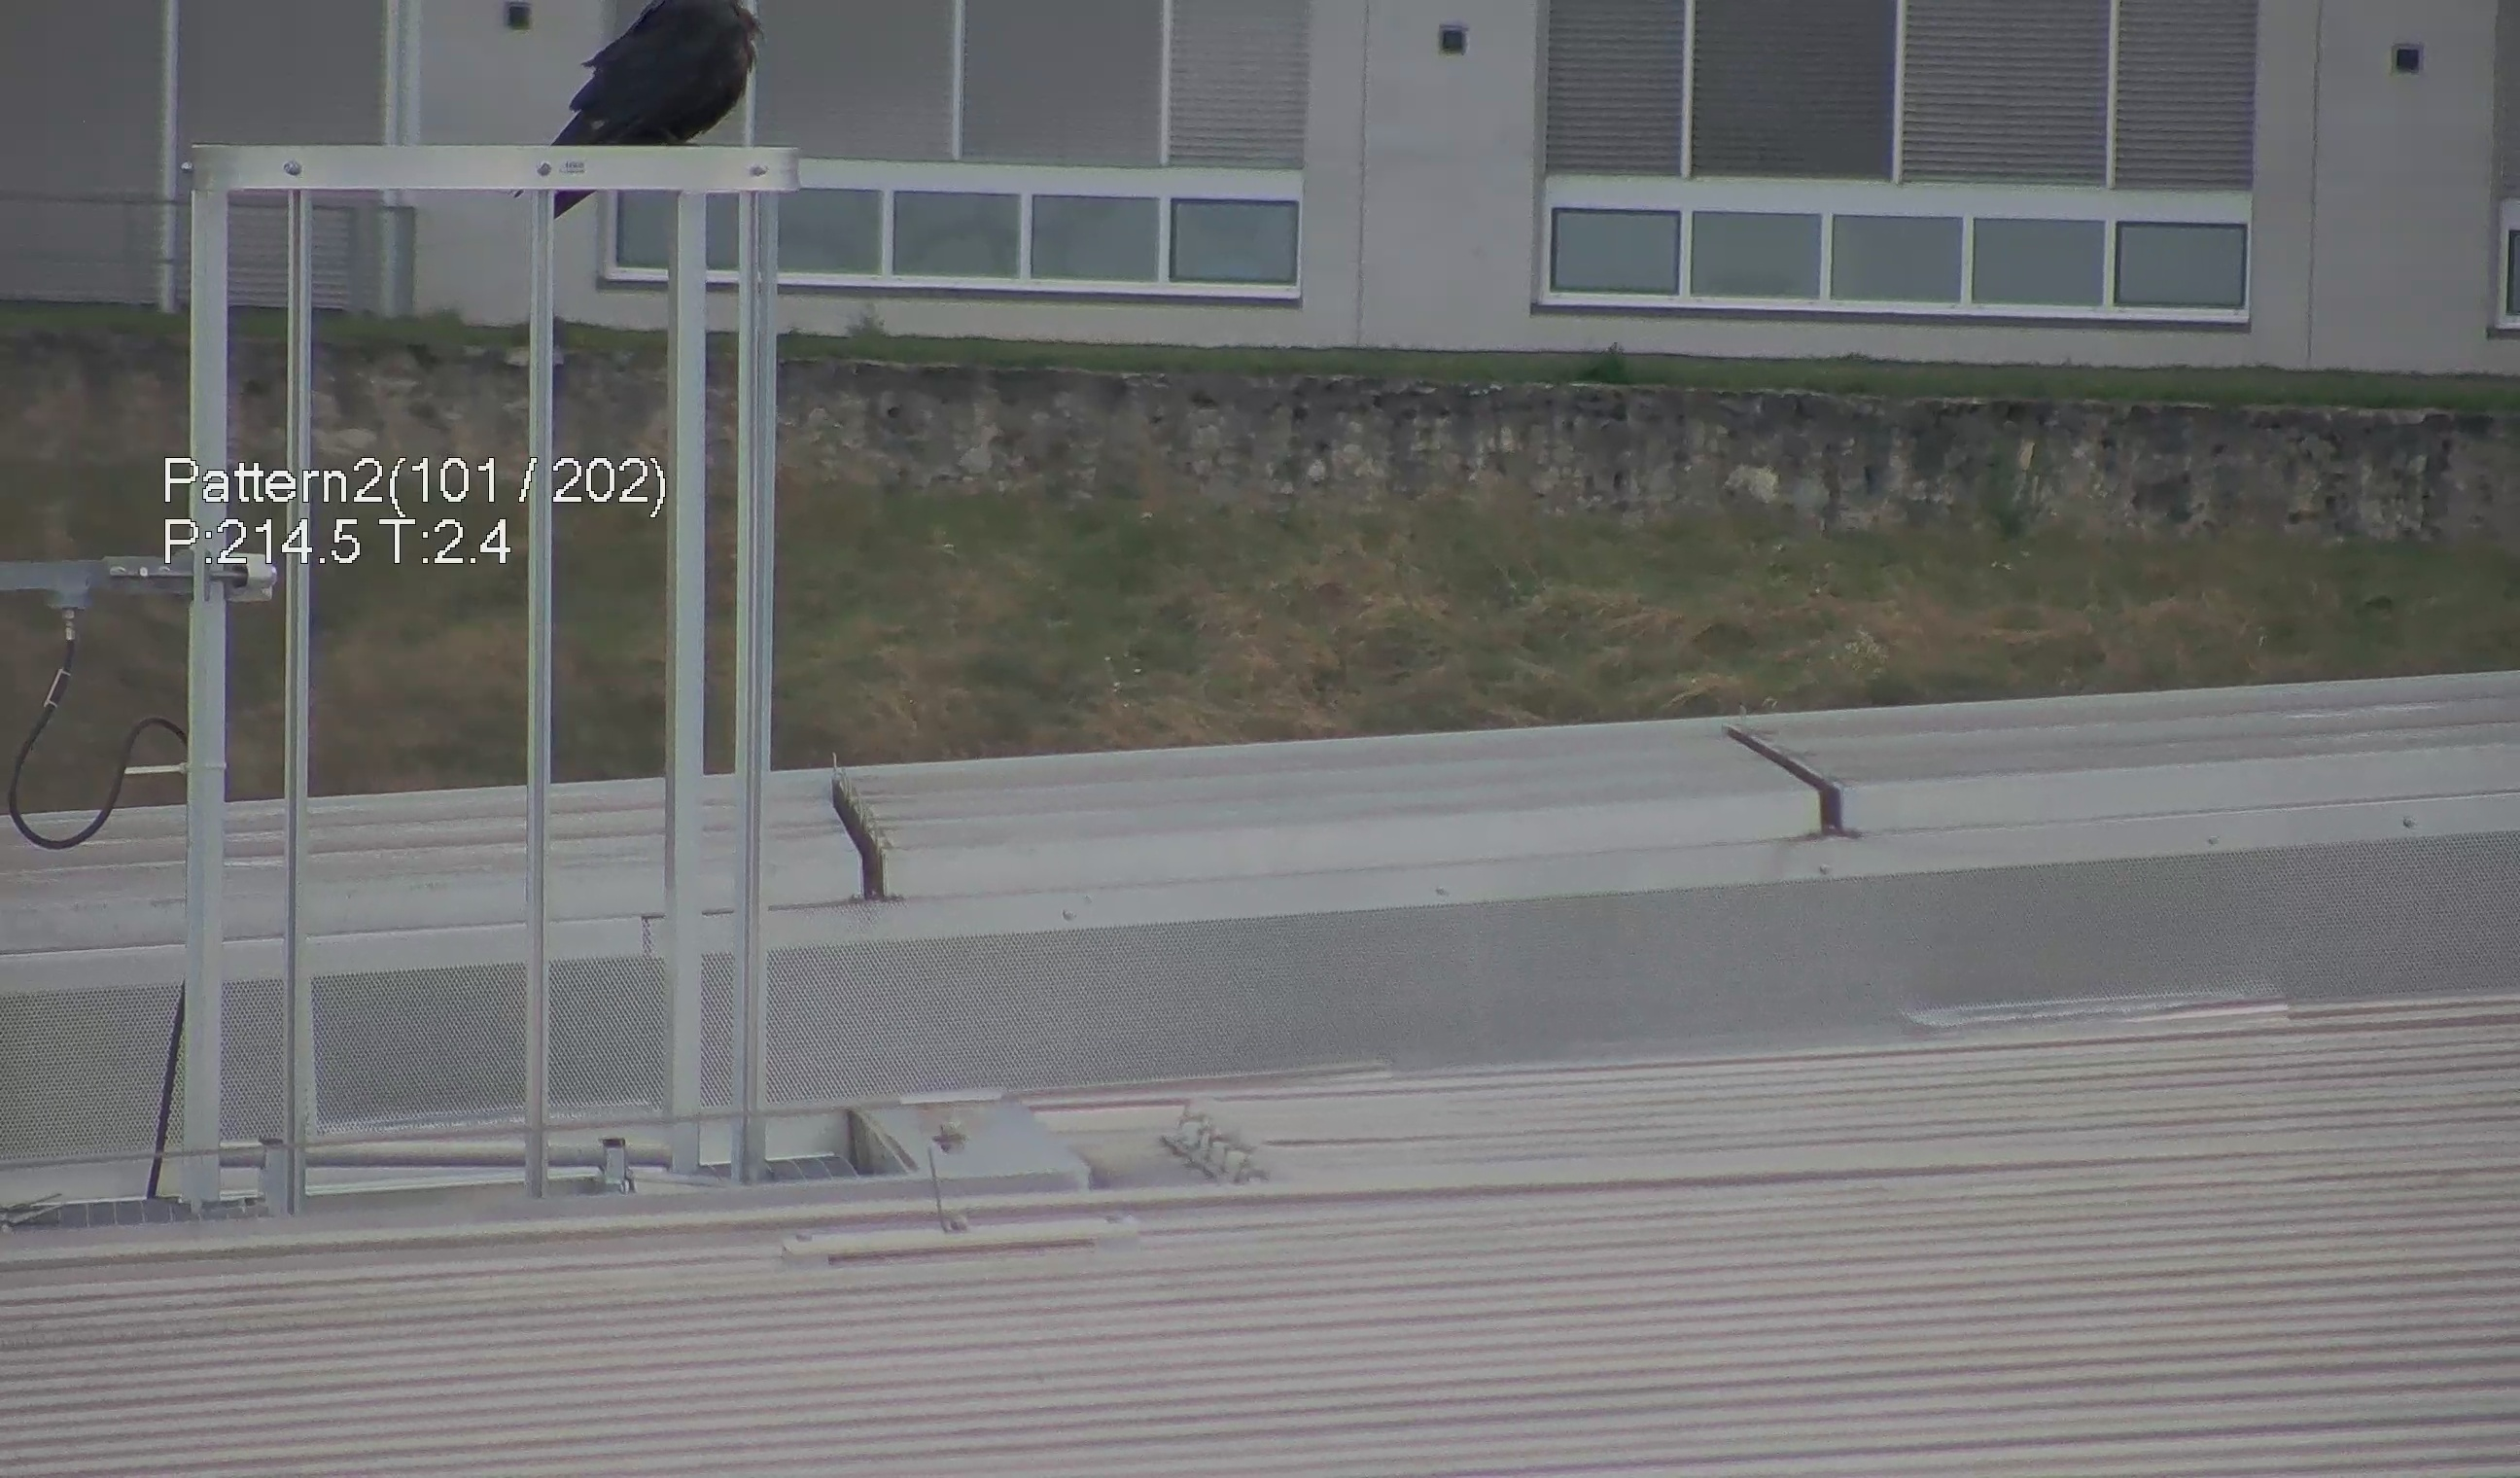Pigeon: (542, 0, 753, 165)
